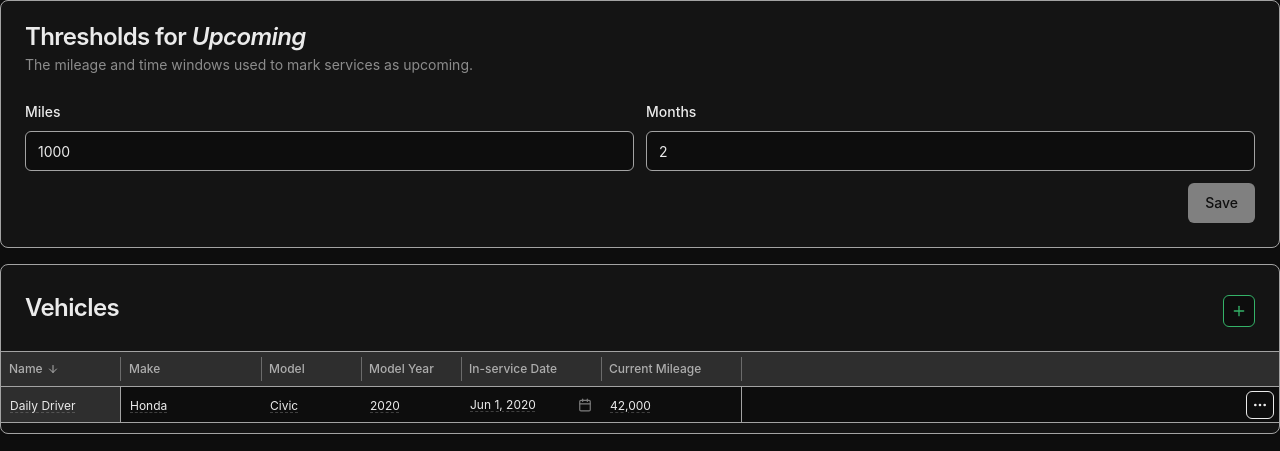
Test: GarageConfigView vehicles grid › restores the previous model year and shows a toast when the grid model year cell is cleared and saved
Later steps or results of the test are not shown.
Press the mouse on the 4th field: (411, 405) [365,391,457,419]
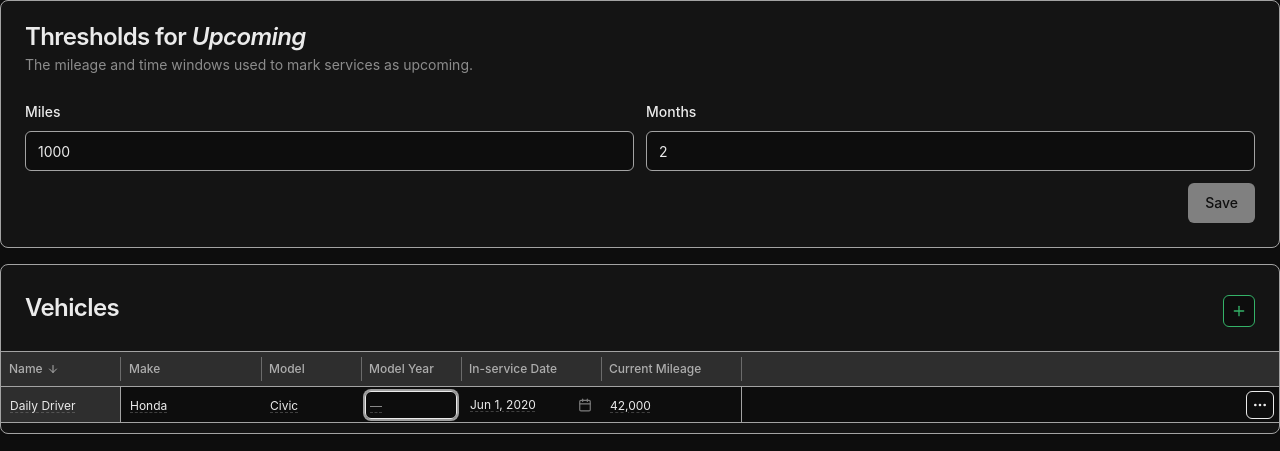
Expected: the number field with placeholder "—" has attribute data-grid-editing="true", [365,391,457,419]
